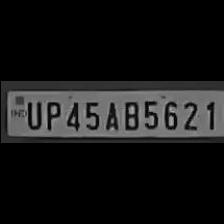1: (201, 98, 217, 130)
2: (180, 97, 198, 130)
4: (61, 98, 79, 130)
5: (141, 96, 159, 130), (82, 97, 100, 130)
6: (160, 98, 178, 130)
A: (101, 97, 119, 130)
B: (119, 97, 138, 130)
P: (42, 98, 60, 130)
U: (22, 97, 40, 128)
